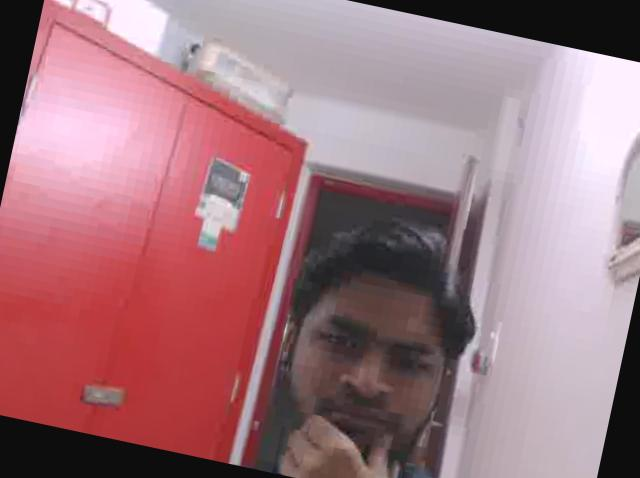bingung: (277, 271, 457, 478)
